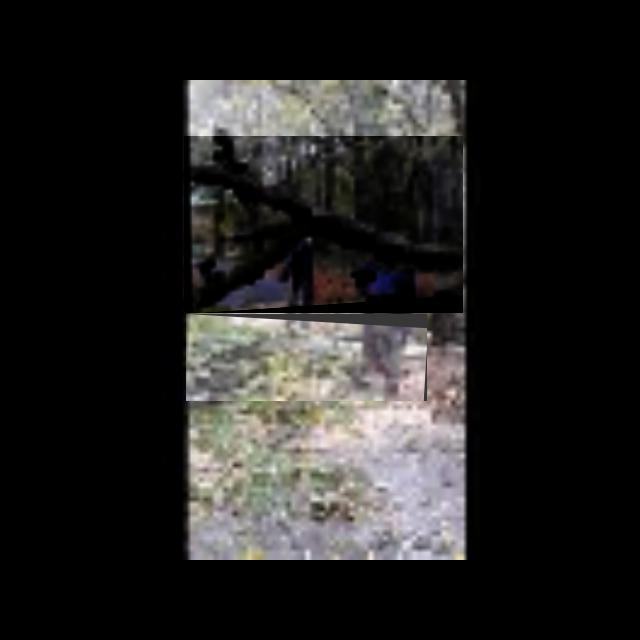fallen_tree: (184, 136, 464, 314), (186, 314, 428, 402)
